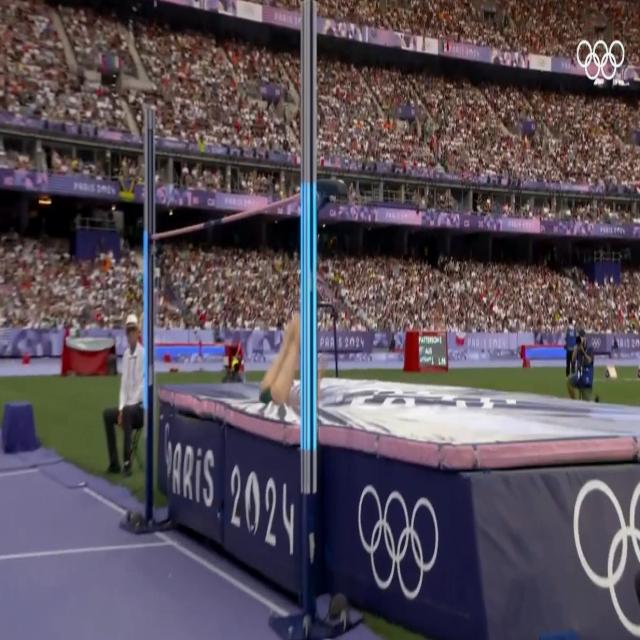land: (257, 292, 307, 417)
